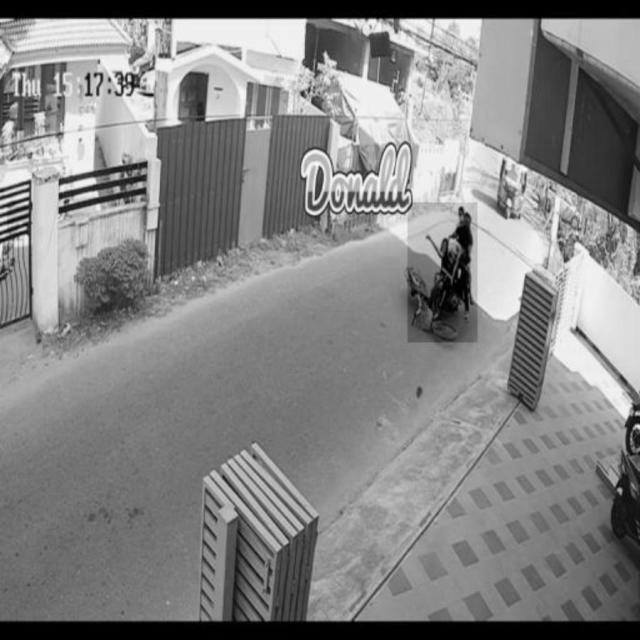accident: (407, 203, 478, 343)
vehicle: (497, 156, 531, 218)
